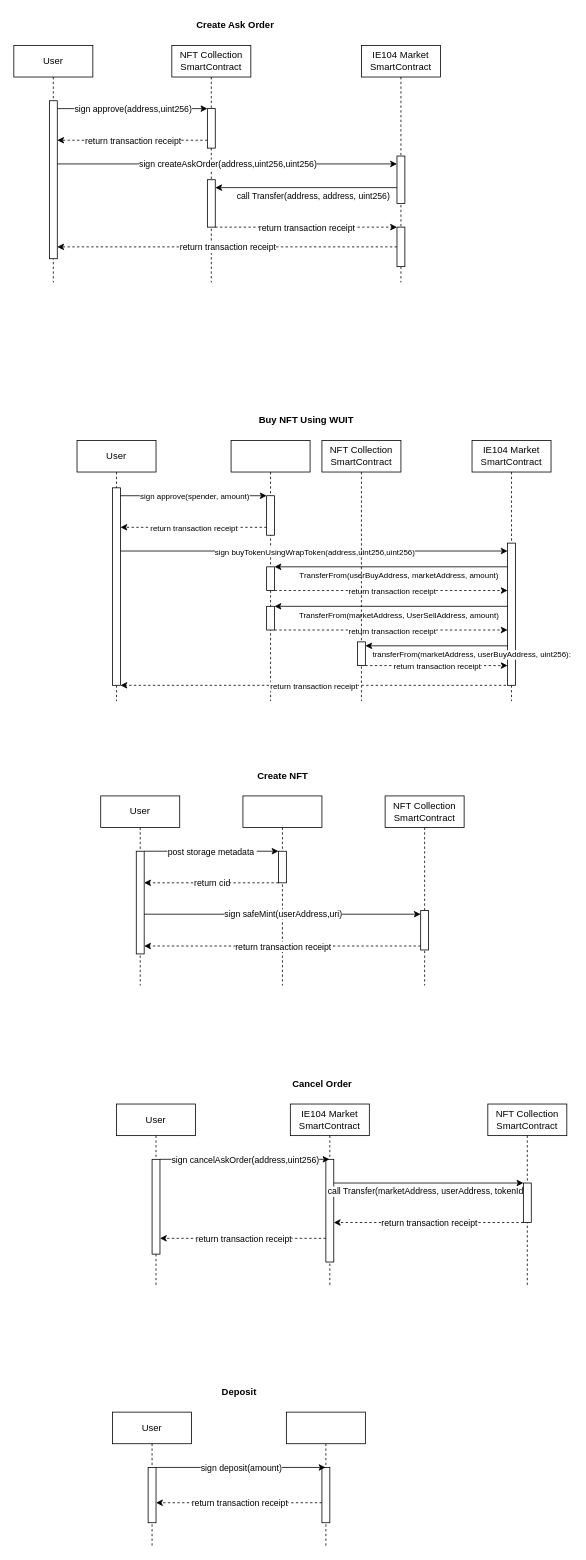
Image size: 586x1560. Some labels were removed from this diagram. Here are the shapes that lost their labels. From the top down, the centre of each, then its label:
At point 270,570: "Erc20 WUIT SmartContract".
At point 282,890: "IPFS".
At point 325,1478: "WUIT Token SmartContract".
